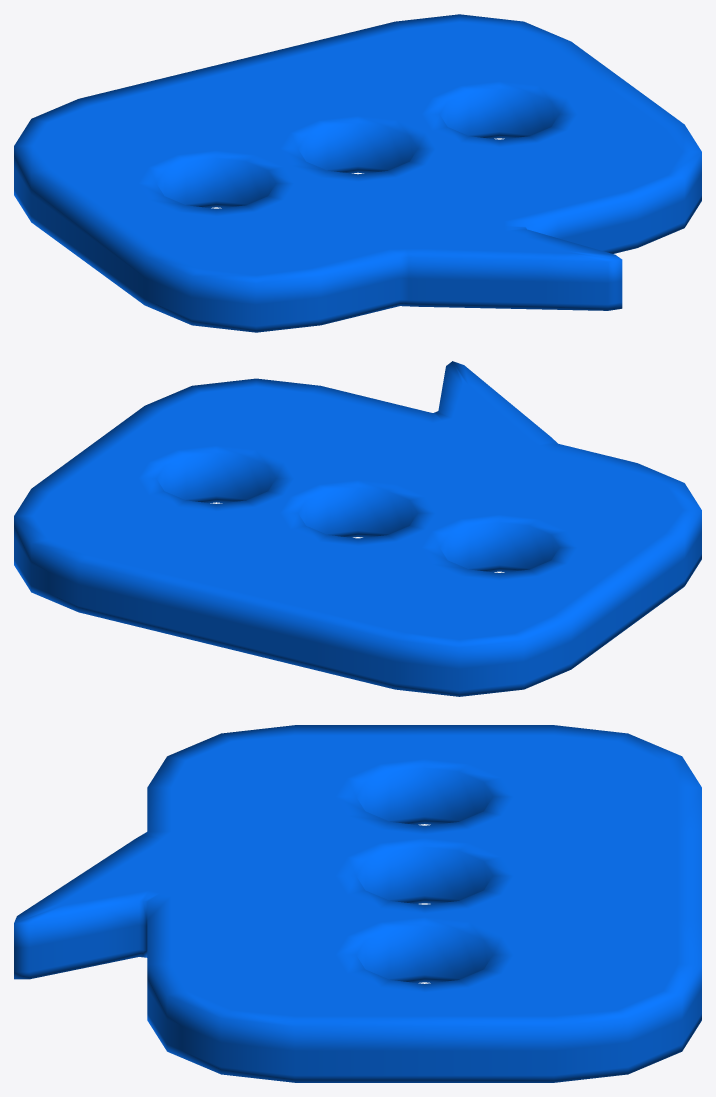
The model's file is message.FBX.
3 views of the same model, one above another, from view 1: azimuth 30°, elevation 25°; view 2: azimuth 150°, elevation 25°; view 3: azimuth 270°, elevation 25° (orthographic). The views are drawn at different scales.
Parts seen in each view (by area): view 1: message; view 2: message; view 3: message.
Boxes of the visible parts, left/top/right/bottom form: message: left=14, top=14, right=701, bottom=332; message: left=14, top=361, right=701, bottom=696; message: left=14, top=725, right=701, bottom=1082.
Bounding box in the file's own units: 40.03 × 3.48 × 38.6.
